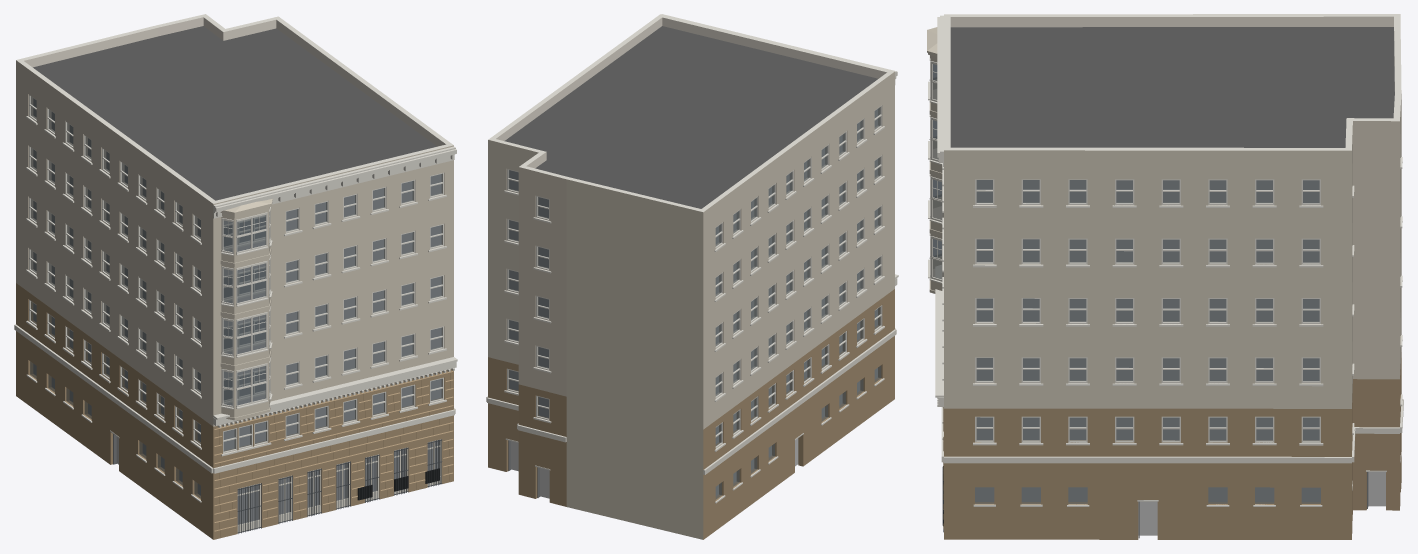
File: exterior.glb
3 views of the same model, side by side, from view 1: azimuth 30°, elevation 25°; view 2: azimuth 150°, elevation 25°; view 3: azimuth 270°, elevation 25° (orthographic). The views are drawn at different scales.
Visible parts, largest first — view 1: shell, roof, glazing, shadow-proxy, frames, trim, bay-glazing-hyb, storefront, bay-windows-hyb, hand-ornament, hyD-rubble-6; view 2: shell, roof, glazing, frames, shadow-proxy, trim; view 3: shell, roof, glazing, shadow-proxy, trim, frames, bay-glazing-hyb, bay-windows-hyb, hand-ornament.
Part boxes in pixels (box(x1,y1,x2,y2)): shell: box(16, 14, 453, 539); roof: box(33, 26, 436, 200); glazing: box(30, 97, 442, 524); shadow-proxy: box(33, 98, 441, 523); frames: box(29, 94, 443, 453); trim: box(14, 116, 456, 502); bay-glazing-hyb: box(221, 207, 272, 409); storefront: box(110, 430, 442, 533); bay-windows-hyb: box(220, 198, 272, 420); hand-ornament: box(213, 357, 457, 500); hyD-rubble-6: box(214, 371, 453, 537); shell: box(488, 14, 894, 539); roof: box(504, 26, 878, 208); glazing: box(508, 107, 881, 499); frames: box(507, 105, 882, 448); shadow-proxy: box(509, 109, 877, 498); trim: box(486, 14, 897, 503); shell: box(944, 14, 1401, 539); roof: box(950, 27, 1394, 147); glazing: box(975, 180, 1320, 503); shadow-proxy: box(975, 180, 1385, 535); trim: box(937, 15, 1403, 506); frames: box(975, 179, 1320, 442); bay-glazing-hyb: box(928, 55, 943, 283); bay-windows-hyb: box(927, 27, 943, 293); hand-ornament: box(935, 265, 943, 525).
Size of the model in its own units: 17.01 by 22.27 by 24.71.
